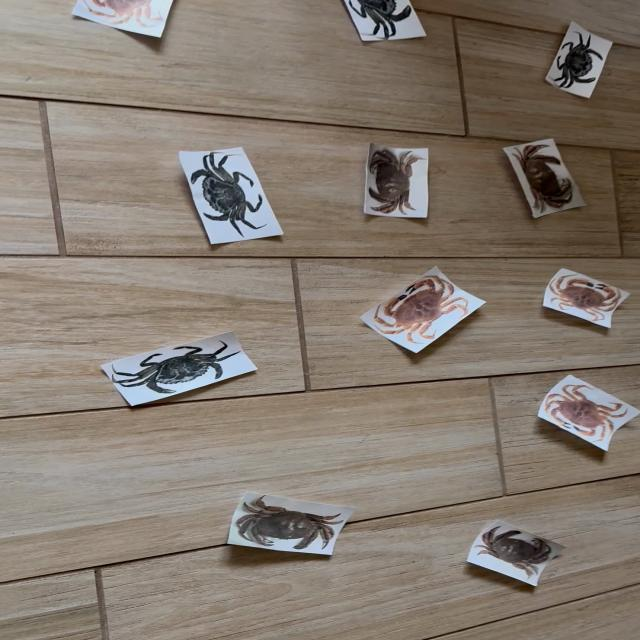egc: (180, 147, 282, 244), (114, 332, 255, 394), (548, 27, 611, 97), (345, 0, 423, 40)
